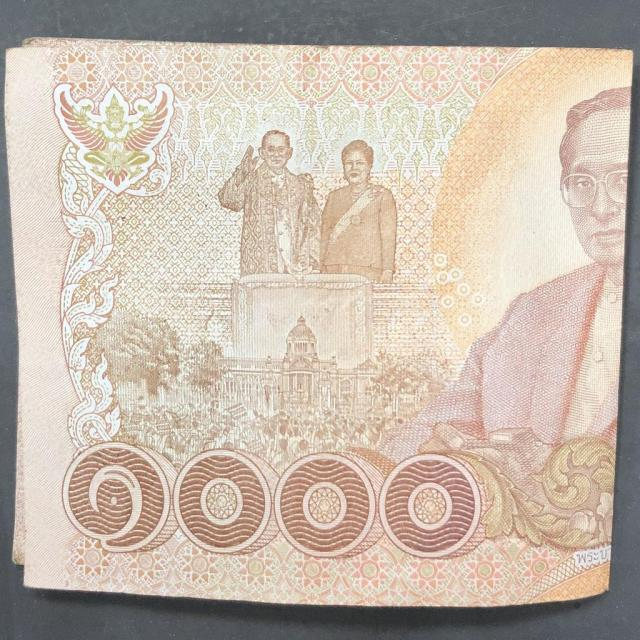THAI1000: (1, 39, 634, 611)
